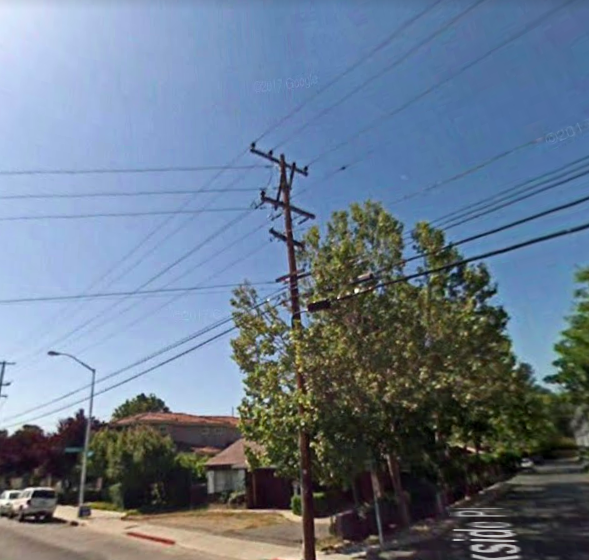utility_pole: (242, 137, 319, 251)
